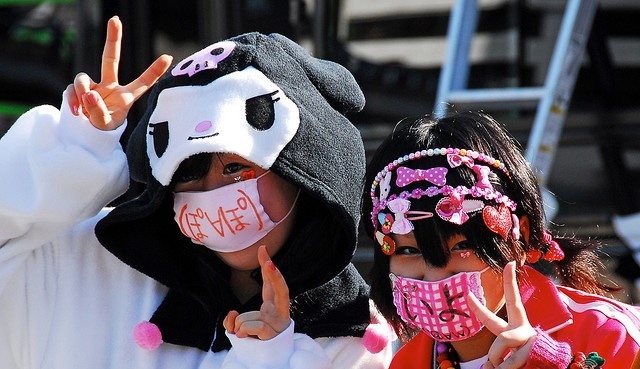face_mask: (387, 195, 504, 342), (177, 134, 287, 268)
